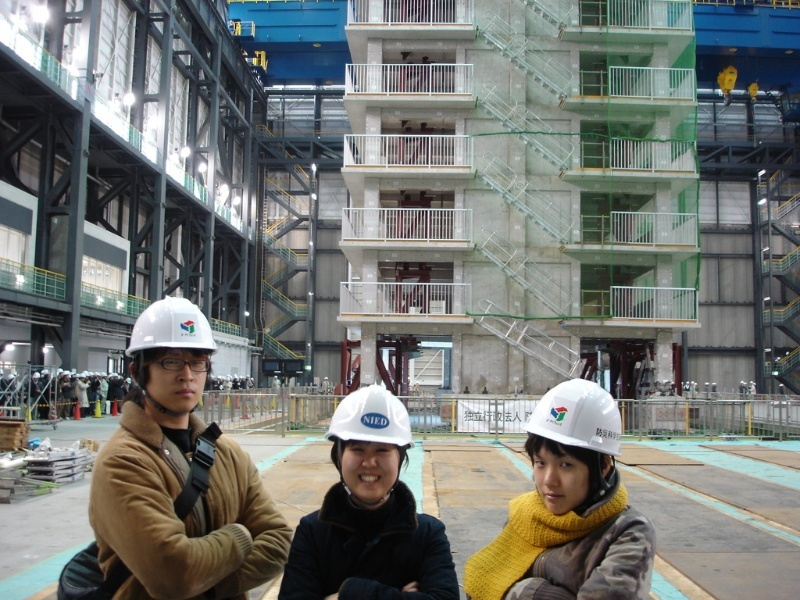Baret: (522, 378, 623, 463), (122, 294, 220, 365), (326, 384, 415, 454)
